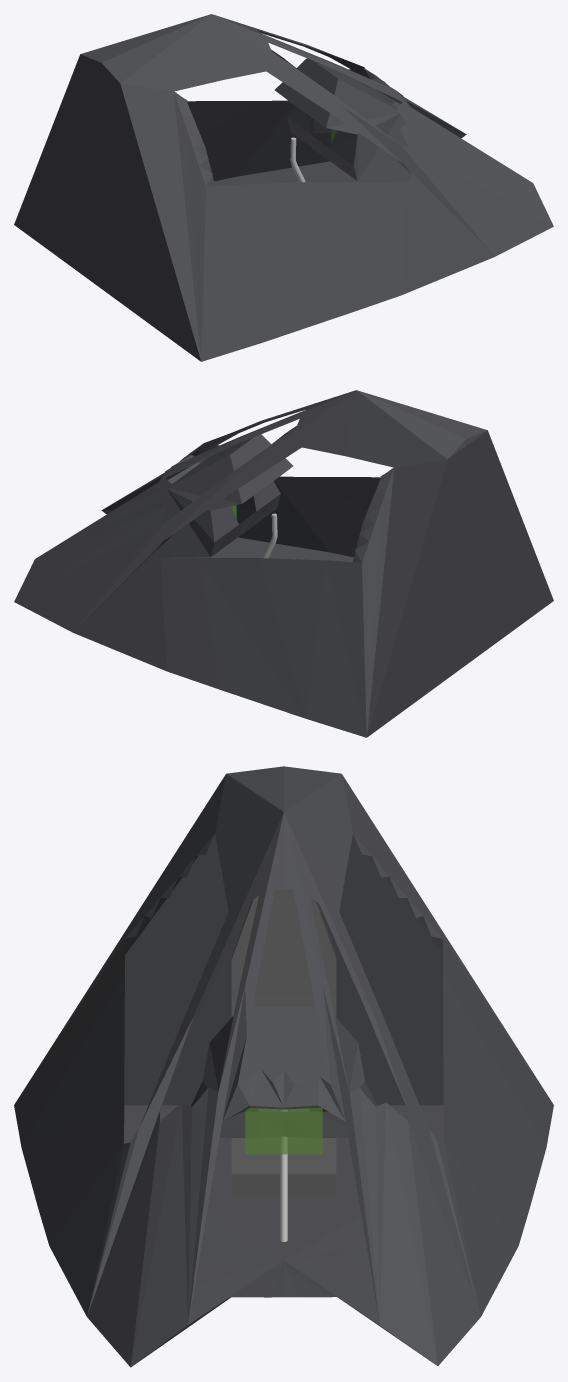
The model's file is f117cockpit.glb.
The picture shows the model from 3 angles, top to bottom: view 1: azimuth 30°, elevation 25°; view 2: azimuth 150°, elevation 25°; view 3: azimuth 270°, elevation 25°; orthographic projection. The views are drawn at different scales.
Visible parts, largest first — view 1: Object09-FACES, Box02-FACES; view 2: Object09-FACES, Box01_0-FACES; view 3: Object09-FACES, Box01_0-FACES, Box02-FACES, Box - baked, Line05-FACES.
Part boxes in pixels (left/top/right/bottom): Object09-FACES: left=14, top=14, right=553, bottom=361; Box02-FACES: left=177, top=93, right=215, bottom=186; Object09-FACES: left=14, top=390, right=553, bottom=737; Box01_0-FACES: left=353, top=469, right=390, bottom=562; Object09-FACES: left=14, top=766, right=553, bottom=1367; Box01_0-FACES: left=284, top=887, right=336, bottom=1197; Box02-FACES: left=231, top=887, right=283, bottom=1197; Box - baked: left=245, top=1108, right=322, bottom=1154; Line05-FACES: left=280, top=1109, right=287, bottom=1241.
Size of the model in its own units: 2.58 by 1.57 by 2.09.
5 materials, 1 textured.
